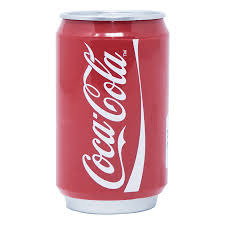coke: (55, 11, 168, 213)
